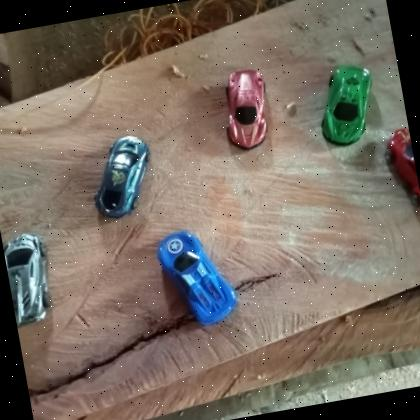Car: (152, 222, 243, 334), (83, 130, 162, 223), (311, 60, 384, 149), (216, 65, 278, 154)
